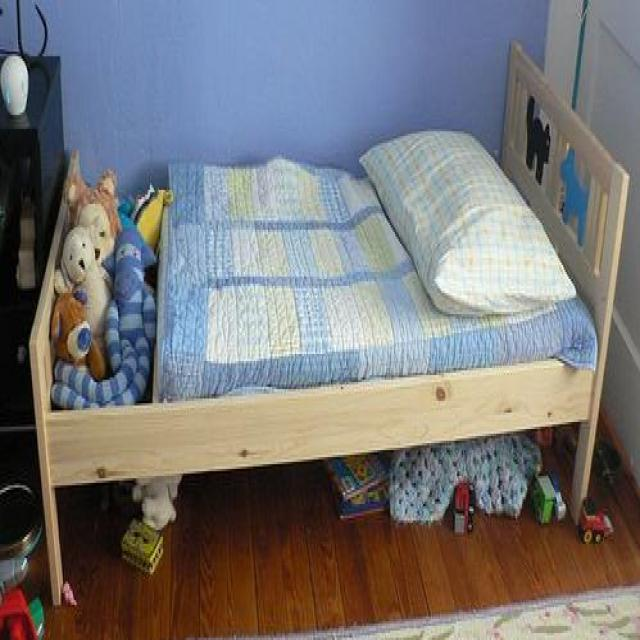bed: (27, 38, 630, 622)
